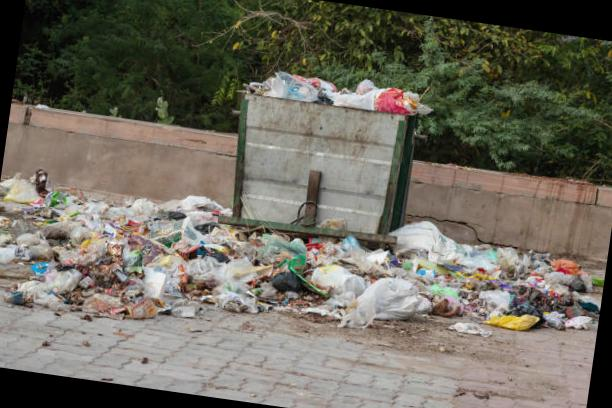trash: (0, 165, 608, 363), (235, 60, 431, 125), (114, 188, 172, 294), (95, 235, 183, 304), (180, 204, 240, 304), (212, 244, 280, 318), (525, 254, 603, 311), (494, 271, 568, 330), (464, 272, 528, 333), (340, 260, 400, 324), (434, 252, 488, 323), (253, 247, 330, 294), (0, 227, 59, 287), (249, 58, 316, 108), (357, 230, 426, 278), (183, 192, 242, 246), (147, 201, 202, 253), (230, 216, 280, 271), (402, 220, 451, 273), (478, 240, 538, 282), (51, 256, 100, 306), (390, 268, 431, 326), (306, 228, 360, 272), (320, 83, 389, 117), (370, 82, 430, 121), (266, 232, 320, 274), (310, 274, 357, 320), (264, 274, 310, 320), (53, 205, 102, 241), (288, 70, 342, 98), (105, 286, 152, 318), (5, 165, 46, 197), (1, 188, 49, 214), (552, 305, 596, 332)
trash_can_overflow: (188, 32, 447, 325)
